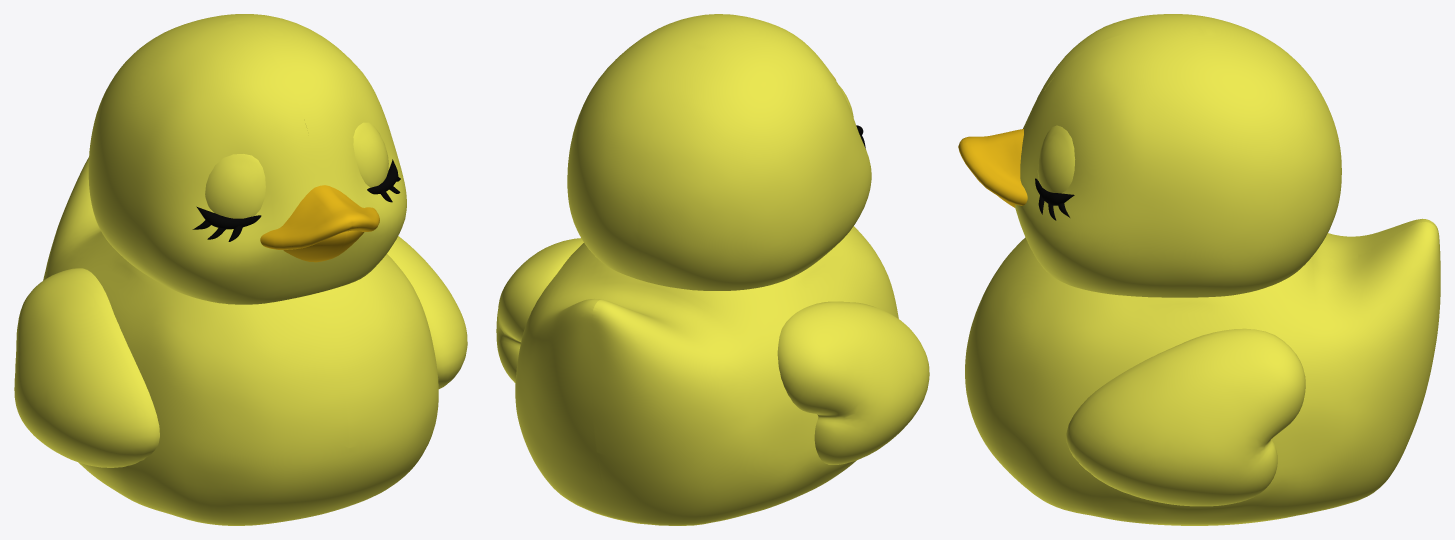
File: dreamduck-v01.glb
The picture shows the model from 3 angles, left to right: view 1: azimuth 30°, elevation 25°; view 2: azimuth 150°, elevation 25°; view 3: azimuth 270°, elevation 25°; orthographic projection. The views are drawn at different scales.
Parts seen in each view (by area): view 1: Duck.001, Duck.005, Duck.006, Duck.010, Duck.008, Duck.004, Duck.009, チューブ_3, Duck.007; view 2: Duck.001, Duck.005, Duck.006, Duck.010; view 3: Duck.001, Duck.005, Duck.010, Duck.008, Duck.009, チューブ_3.
Boxes of the visible parts, x1,y1,x2,y2 form: Duck.001: (43,157,438,525); Duck.005: (88,14,406,304); Duck.006: (14,268,159,467); Duck.010: (387,236,467,388); Duck.008: (260,185,379,249); Duck.004: (205,154,265,218); Duck.009: (353,122,388,187); チューブ_3: (192,159,400,241); Duck.007: (283,230,364,262); Duck.001: (515,226,898,525); Duck.005: (567,14,871,290); Duck.006: (777,301,929,464); Duck.010: (496,238,583,382); Duck.001: (965,218,1440,525); Duck.005: (1015,14,1341,297); Duck.010: (1066,328,1305,506); Duck.008: (958,129,1027,205); Duck.009: (1037,125,1075,193); チューブ_3: (1035,178,1074,220).
Bounding box in the file's own units: 60 × 59.95 × 60.1.
